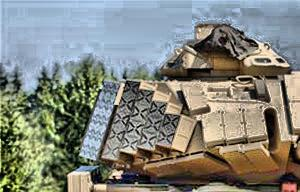tanks: (69, 26, 300, 192)
